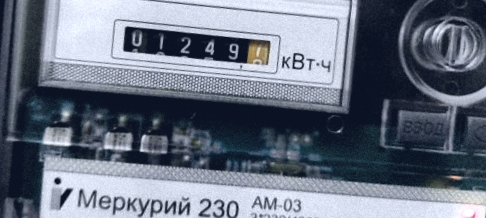0: (129, 27, 145, 48)
1: (154, 30, 166, 51)
2: (177, 34, 193, 56)
4: (202, 36, 216, 57)
7: (251, 38, 265, 59)
9: (225, 40, 241, 62)
screen: (102, 10, 281, 80)
